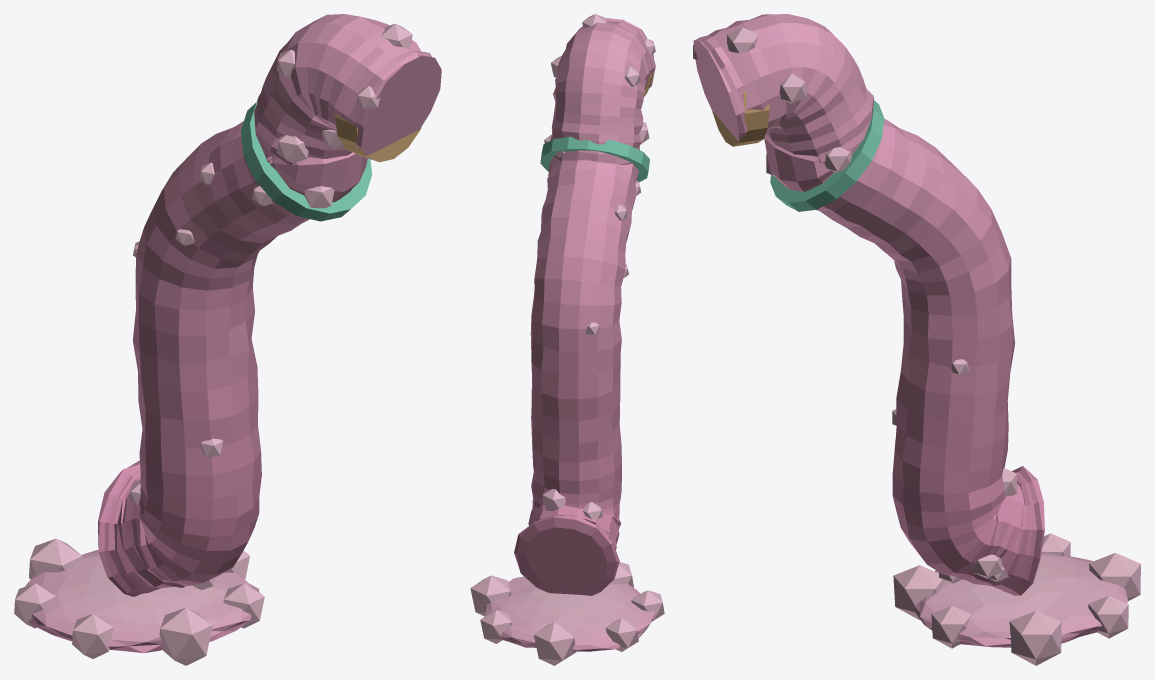
Rendered from goo_drop_tube_goo_2@candy.fbx.
3 renders of one model, left to right at view 1: azimuth 30°, elevation 25°; view 2: azimuth 150°, elevation 25°; view 3: azimuth 270°, elevation 25°, orthographic. The views are drawn at different scales.
Parts seen in each view (by area): view 1: goo_drop_tube_goo_2; view 2: goo_drop_tube_goo_2; view 3: goo_drop_tube_goo_2.
Part boxes in pixels (x1,y1,x2,y2): goo_drop_tube_goo_2: (14, 14, 441, 665); goo_drop_tube_goo_2: (470, 14, 664, 665); goo_drop_tube_goo_2: (693, 14, 1140, 665).
Bounding box in the file's own units: 8.66 × 21.79 × 13.69.
